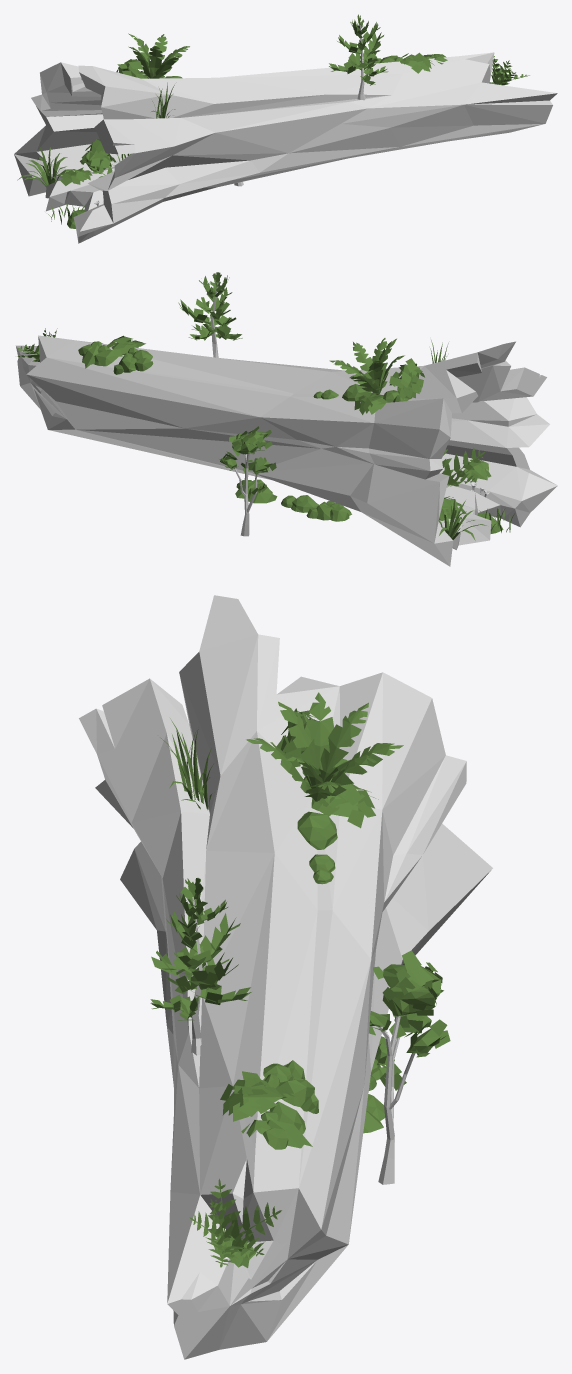
Rendered from SM_Tree_Sequoia_Rotten_Big_Vegetation.fbx.
The picture shows the model from 3 angles, top to bottom: view 1: azimuth 30°, elevation 25°; view 2: azimuth 150°, elevation 25°; view 3: azimuth 270°, elevation 25°; orthographic projection. The views are drawn at different scales.
Visible parts, largest first — view 1: tree-sequoia-rotten-big-vegetation; view 2: tree-sequoia-rotten-big-vegetation; view 3: tree-sequoia-rotten-big-vegetation.
Boxes of the visible parts, bbox=[...] form: tree-sequoia-rotten-big-vegetation: bbox=[14, 14, 557, 243]; tree-sequoia-rotten-big-vegetation: bbox=[16, 272, 557, 566]; tree-sequoia-rotten-big-vegetation: bbox=[79, 595, 492, 1359].
Size of the model in its own units: 8.76 by 3.35 by 3.24.
